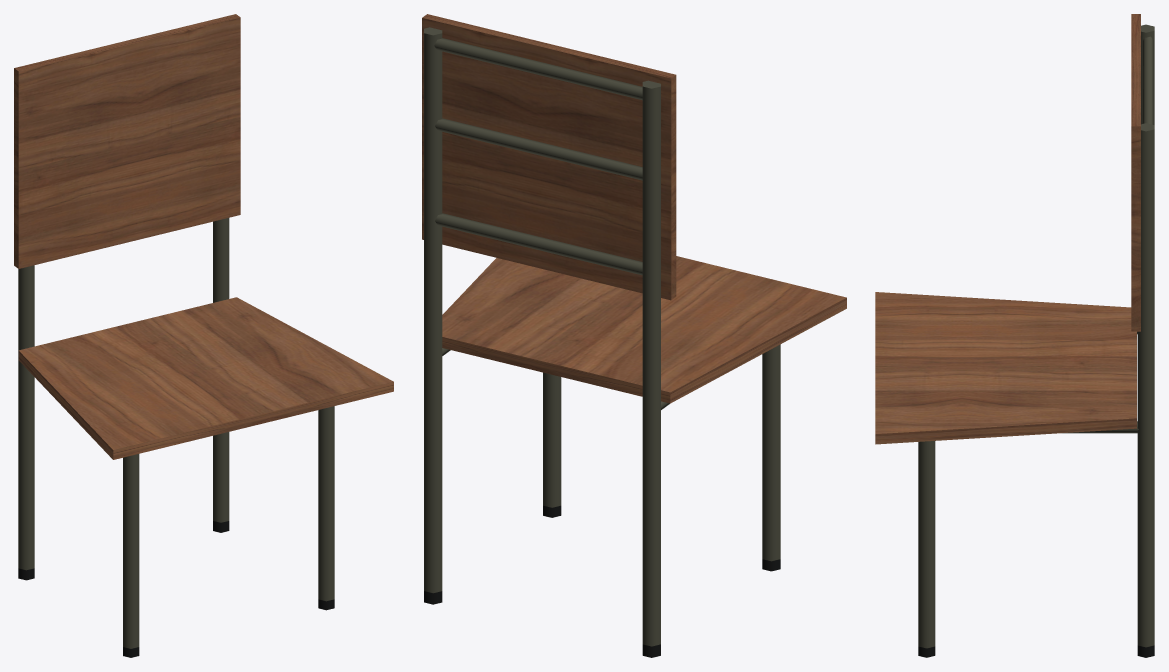
Rendered from chair3.FBX.
3 renders of one model, left to right at view 1: azimuth 30°, elevation 25°; view 2: azimuth 150°, elevation 25°; view 3: azimuth 270°, elevation 25°, orthographic. The views are drawn at different scales.
Visible parts, largest first — view 1: chair3; view 2: chair3; view 3: chair3.
Part boxes in pixels (box(x1,y1,x2,y2)): chair3: box(14, 14, 393, 657); chair3: box(422, 14, 846, 657); chair3: box(875, 14, 1154, 657).
Size of the model in its own units: 3.44 by 6.02 by 2.85.
